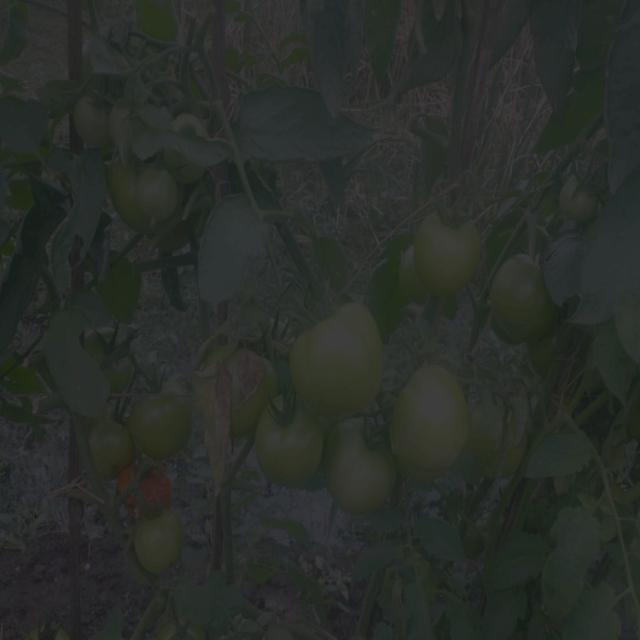tomato: (295, 309, 386, 415), (387, 365, 467, 478), (326, 417, 403, 511), (255, 401, 329, 491), (493, 259, 558, 341), (110, 162, 181, 235), (419, 208, 475, 289), (134, 386, 193, 461), (457, 399, 512, 471), (230, 353, 275, 422), (132, 517, 185, 574), (86, 331, 135, 384), (93, 422, 135, 476), (556, 174, 599, 226), (78, 94, 116, 147), (136, 473, 173, 509)
